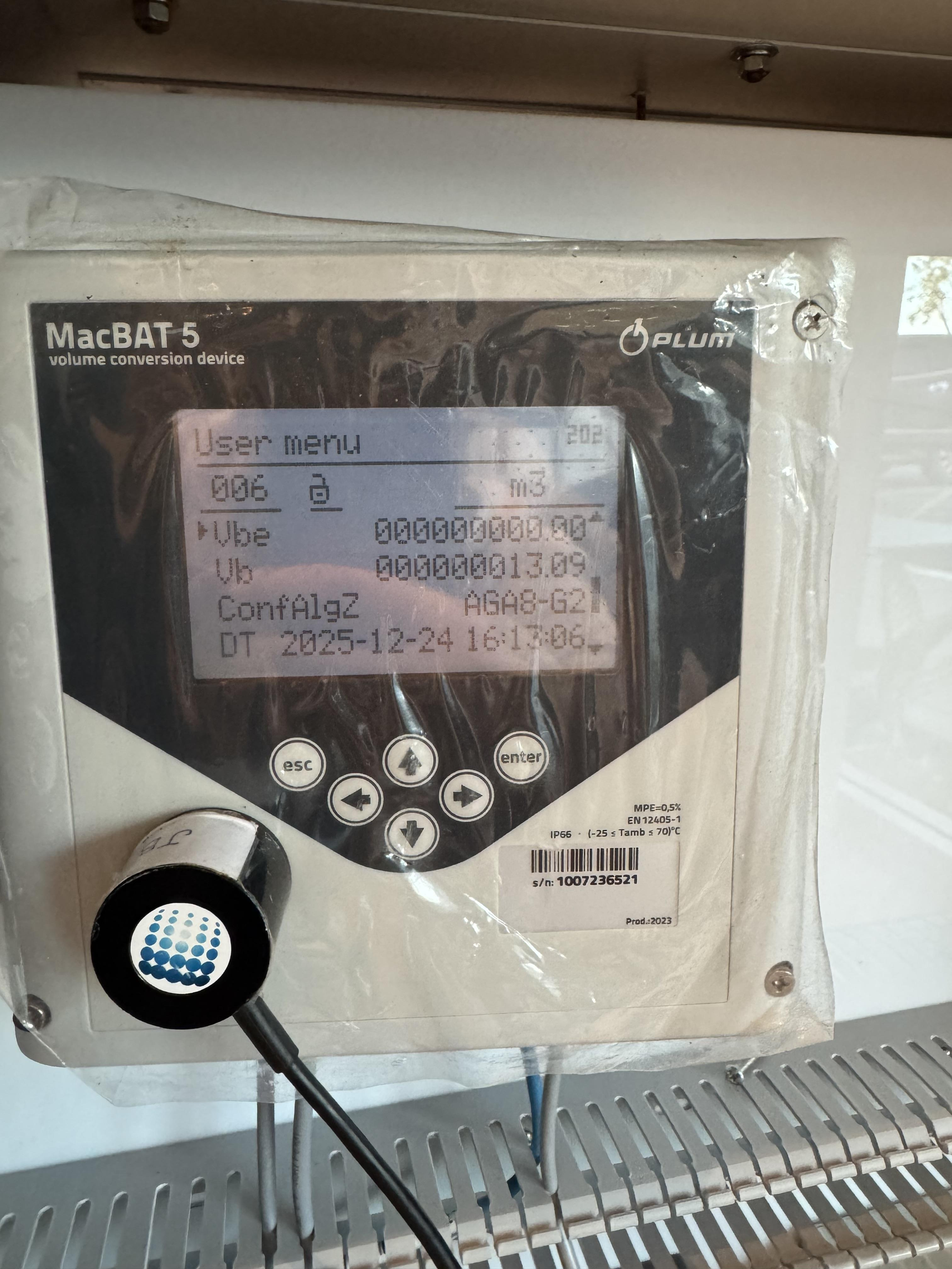digital_screen: (175, 407, 623, 680)
